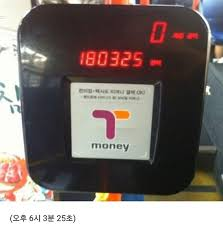terminal: (15, 3, 213, 196)
